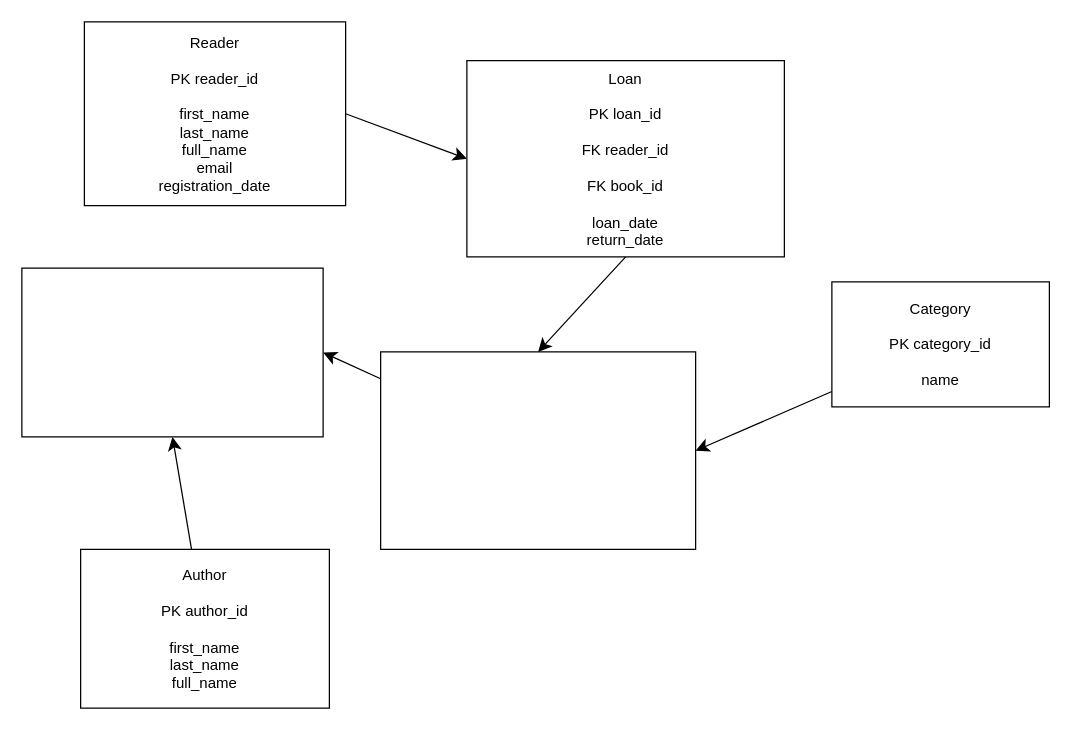
Some shapes in this 1071 by 730 pixel diagram are drawn without their labels. The shapes that lost their labels are listed below. From the top down, each one's centre as x and y in pixels, then its label:
point (172, 352): Book_Author PK book_author_id FK book_id FK author_id
point (537, 450): Book PK book_id title publication_year status FK category_id
